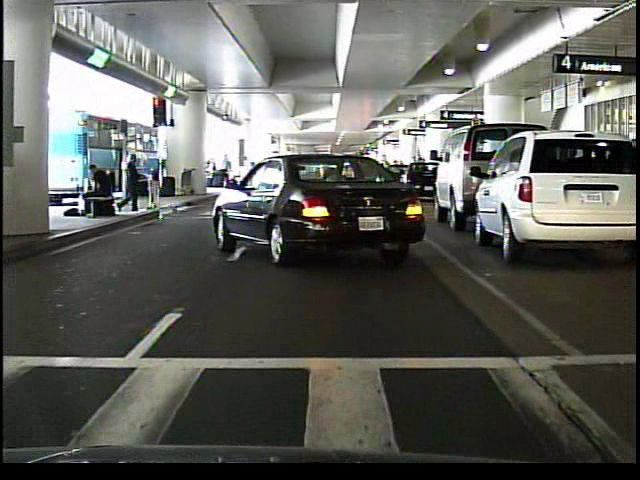person: (78, 162, 115, 223), (118, 149, 142, 212)
